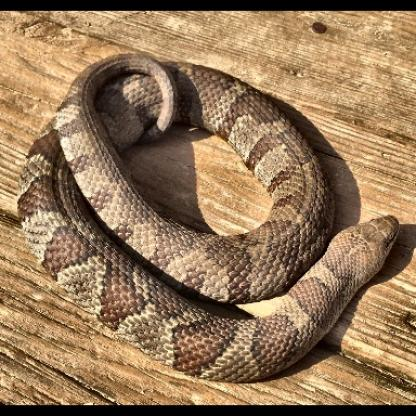Snake: (9, 36, 416, 386)
